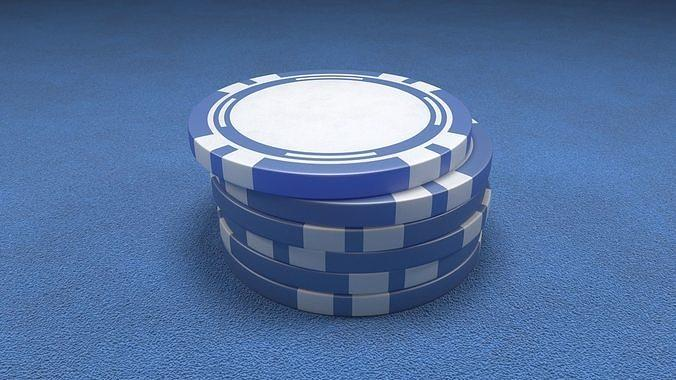chip-blue: (189, 73, 473, 199), (222, 127, 492, 227), (224, 237, 481, 315), (213, 180, 483, 252)
